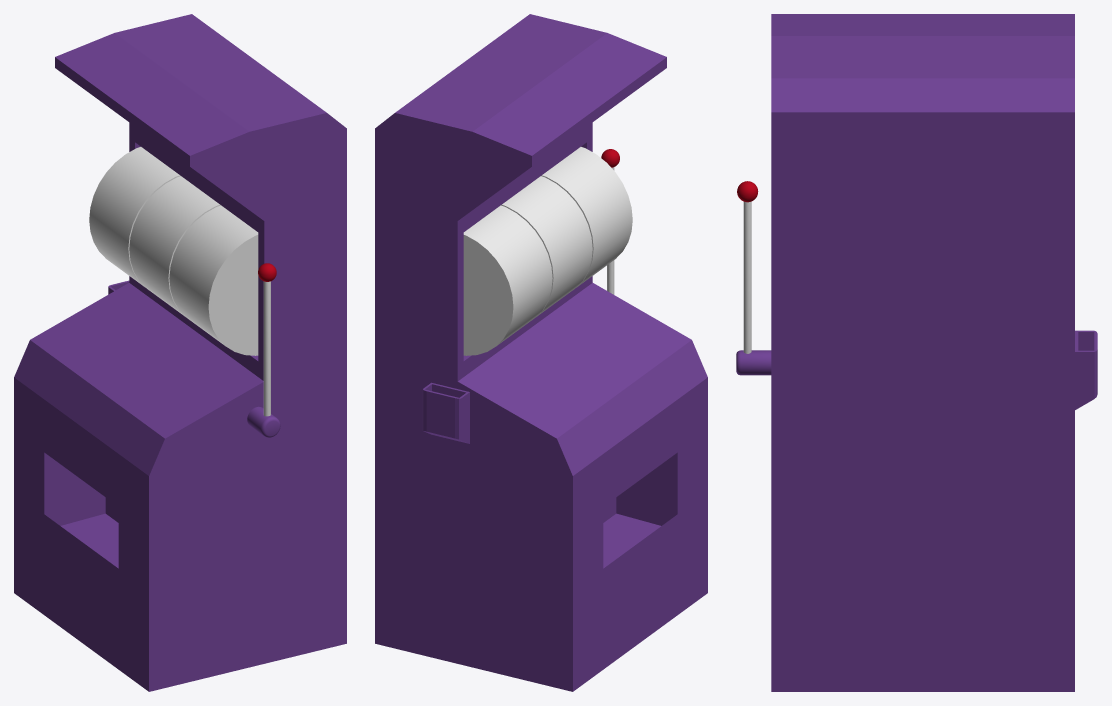
The model's file is slot-machine.glb.
3 views of the same model, side by side, from view 1: azimuth 30°, elevation 25°; view 2: azimuth 150°, elevation 25°; view 3: azimuth 270°, elevation 25° (orthographic). The views are drawn at different scales.
Parts seen in each view (by area): view 1: Body, Reel1, Reel2, Reel3, Reel3Caps, Lever, LeverAttach; view 2: Body, Reel3, Reel2, Reel1, Reel1Caps, CoinEntry, Lever; view 3: Body, Lever, CoinEntry, LeverAttach.
Part boxes in pixels (x1,y1,x2,y2): Body: (14, 14, 346, 691); Reel1: (89, 147, 179, 286); Reel2: (129, 176, 219, 316); Reel3: (169, 205, 258, 345); Reel3Caps: (208, 235, 258, 355); Lever: (258, 263, 276, 416); LeverAttach: (247, 406, 280, 437); Body: (375, 14, 707, 691); Reel3: (542, 147, 632, 286); Reel2: (502, 176, 592, 316); Reel1: (463, 205, 552, 345); Reel1Caps: (463, 235, 513, 355); CoinEntry: (422, 382, 469, 443); Lever: (601, 149, 619, 294); Body: (771, 14, 1074, 691); Lever: (737, 181, 758, 353); CoinEntry: (1075, 330, 1097, 409); LeverAttach: (736, 350, 771, 375).
Size of the model in its own units: 1.13 by 2.91 by 1.58.
